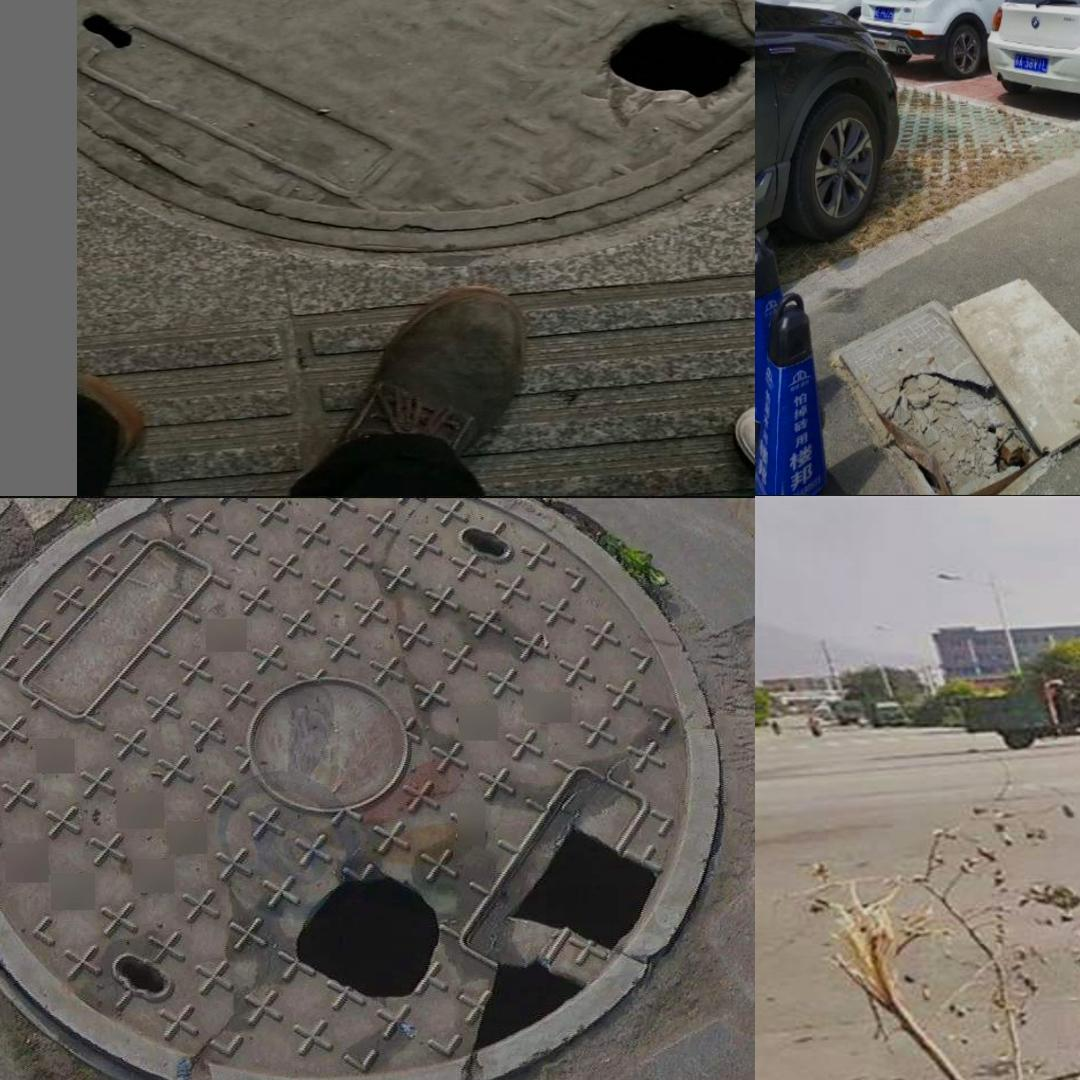broke: (0, 497, 683, 1080), (78, 0, 752, 250), (835, 294, 1080, 496), (920, 1029, 1080, 1080)
